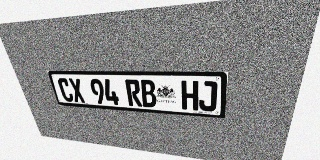4: (102, 79, 120, 105)
9: (89, 79, 107, 104)
B: (139, 80, 157, 108)
C: (57, 78, 75, 102)
H: (181, 81, 198, 110)
J: (199, 81, 218, 112)
R: (125, 79, 142, 107)
X: (68, 78, 86, 103)
